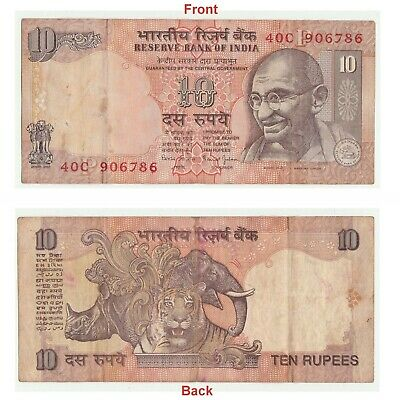ten_rupees_note: (20, 17, 375, 186), (17, 216, 375, 383)
